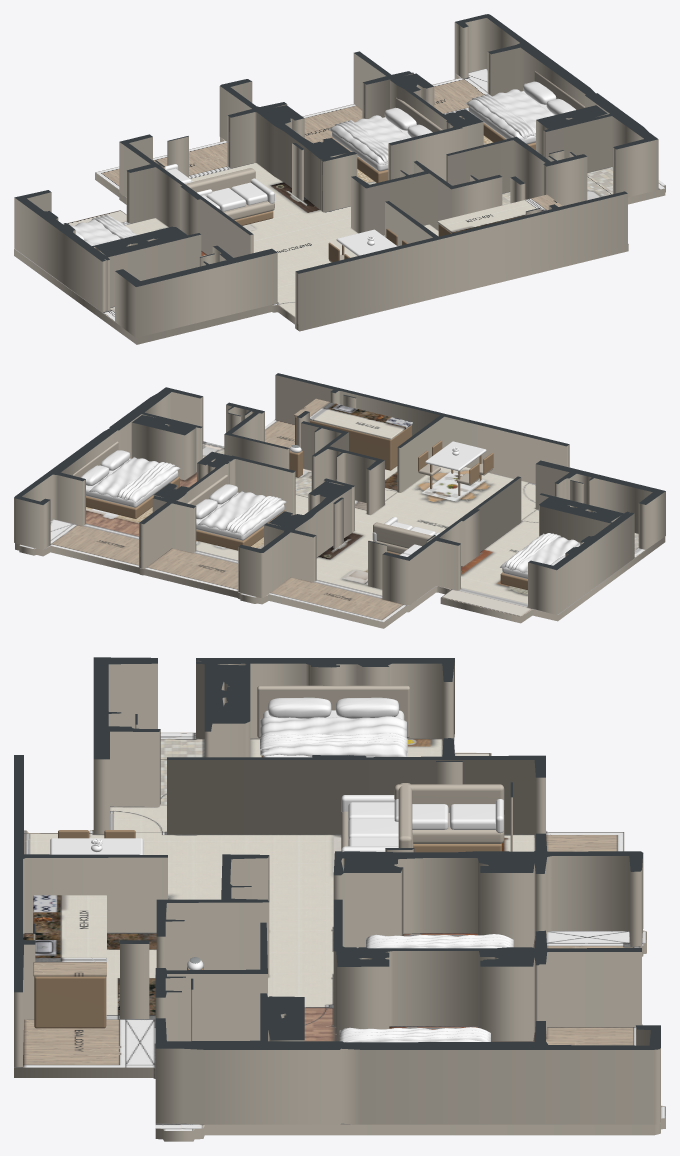
The picture shows the model from 3 angles, top to bottom: view 1: azimuth 30°, elevation 25°; view 2: azimuth 150°, elevation 25°; view 3: azimuth 270°, elevation 25°; orthographic projection. The views are drawn at different scales.
Visible parts, largest first — view 1: Partition walls, Apartment floor, Stone worktop, Draped bed linen, Draped bed linen.002, Sofa back, Marble dining top, Draped bed linen.001, Draped bed linen.004, Draped bed linen.003, Seat cushion.001, Upholstered sofa frame (+2 smaller); view 2: Partition walls, Apartment floor, Stone worktop, Draped bed linen, Kitchen cabinets, Draped bed linen.002, Marble dining top, Draped bed linen.004, Sofa back, Walnut upholstered base, Walnut upholstered base.001, Piped mattress (+6 smaller); view 3: Partition walls, Apartment floor, Stone worktop, Draped bed linen.004, Kitchen cabinets, Upholstered headboard.002, Draped bed linen.001, Sofa back.001, Draped bed linen.005, Draped bed linen.003, Marble dining top, Upholstered sofa frame.001 (+8 smaller).
Part boxes in pixels (x1,y1,x2,y2): Partition walls: (14,14,658,337); Apartment floor: (14,68,665,344); Stone worktop: (437,194,562,233); Draped bed linen: (466,89,554,139); Draped bed linen.002: (329,115,410,164); Sofa back: (185,168,255,192); Marble dining top: (336,229,397,255); Draped bed linen.001: (471,94,535,138); Draped bed linen.004: (71,216,136,244); Draped bed linen.003: (334,120,388,163); Seat cushion.001: (206,188,246,211); Upholstered sofa frame: (223,201,274,219); Partition walls: (14,373,665,614); Apartment floor: (15,419,665,628); Stone worktop: (294,398,412,439); Draped bed linen: (89,456,180,502); Kitchen cabinets: (295,416,411,470); Draped bed linen.002: (198,491,286,535); Marble dining top: (425,441,486,471); Draped bed linen.004: (500,533,579,572); Sofa back: (373,522,432,548); Walnut upholstered base: (86,476,179,518); Walnut upholstered base.001: (196,510,285,550); Piped mattress: (86,458,178,507); Partition walls: (14,657,660,1124); Apartment floor: (14,732,665,1141); Stone worktop: (33,895,106,976); Draped bed linen.004: (260,716,406,756); Kitchen cabinets: (34,976,106,1028); Upholstered headboard.002: (257,685,409,738); Draped bed linen.001: (339,1027,490,1042); Sofa back.001: (394,784,504,812); Draped bed linen.005: (260,733,407,752); Draped bed linen.003: (366,934,513,948); Marble dining top: (50,838,143,854); Upholstered sofa frame.001: (412,812,504,843).
Bounding box in the file's own units: 13.02 × 1.3 × 9.
Materials: 10 (1 with a texture image).
